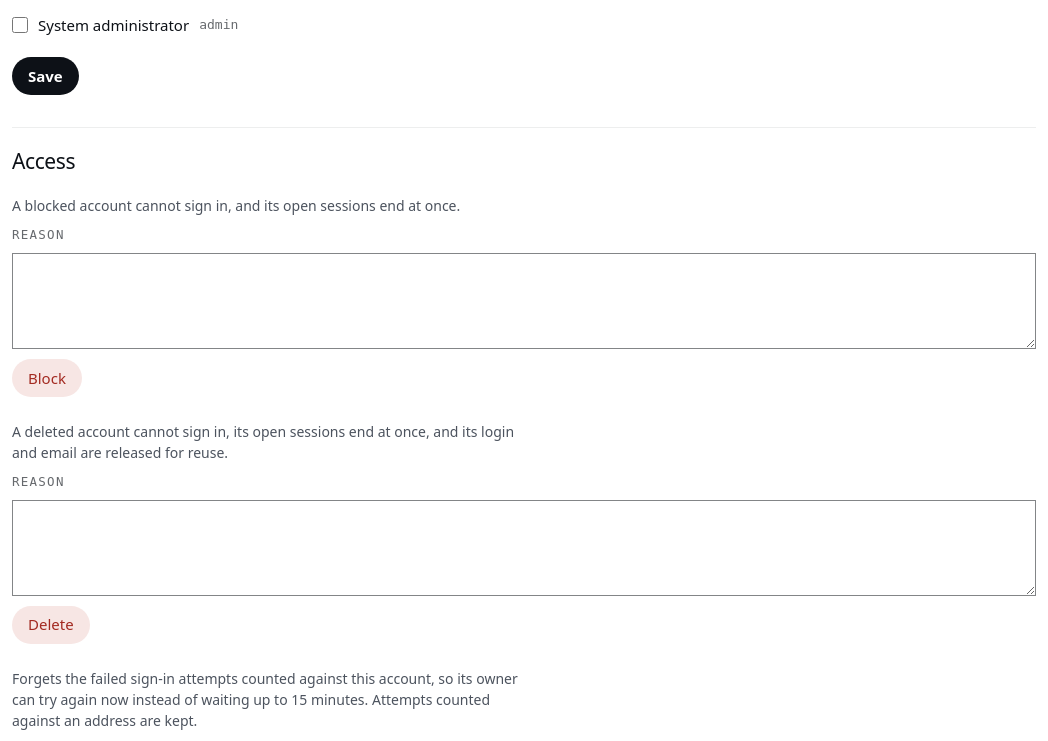
Test case: AccountCard, the block form's reason requirement › refuses a block submitted with an empty reason, and never disables the button on it
(page scrolled)
Note: The reason stays empty.
What coordinates should you click on to do the following:
click the button "Block"
I would click on:
 (47, 378)
Its box is top-left (12, 359), bottom-right (82, 397).
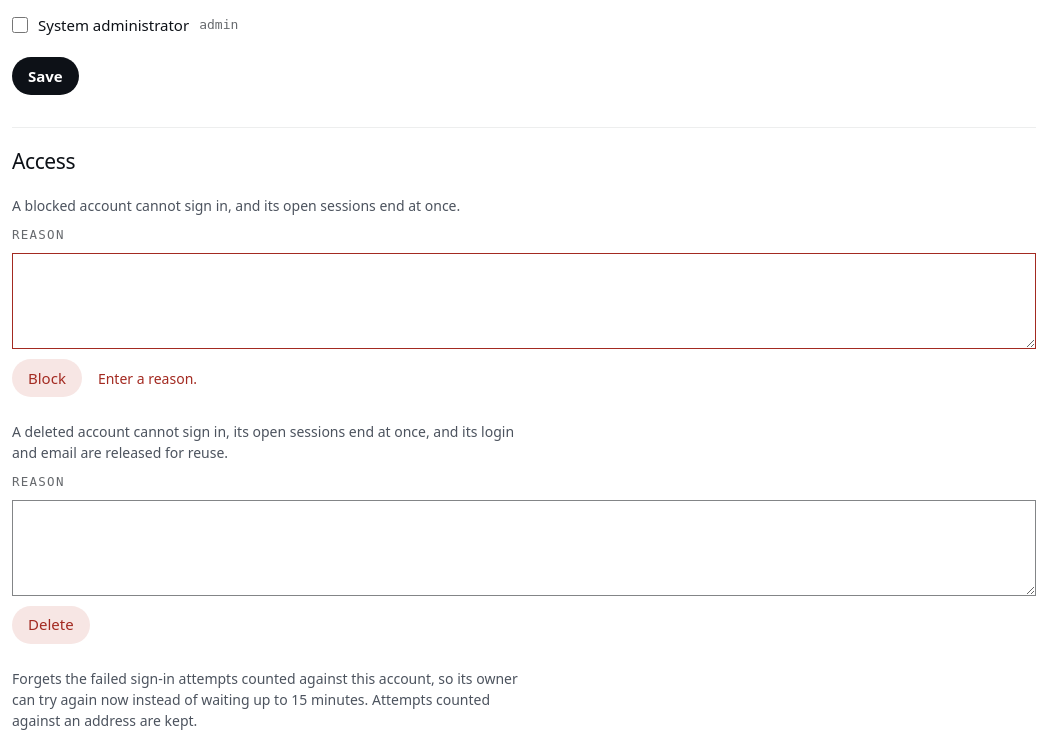
Now the message reads "Enter a reason.", box top-left (98, 369), bottom-right (197, 388)
